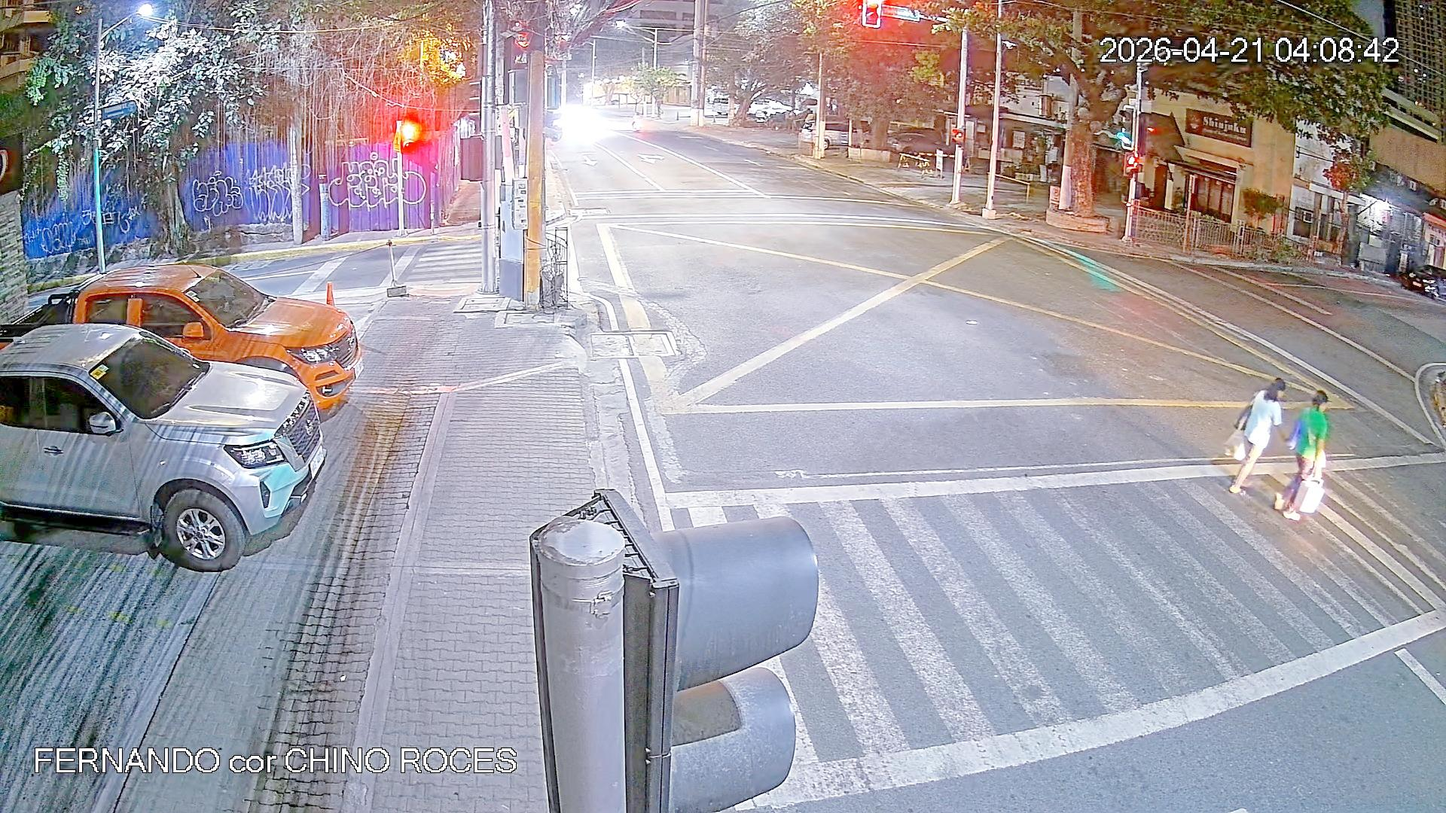Car: (0, 313, 341, 578), (8, 254, 373, 418), (797, 110, 882, 157)
